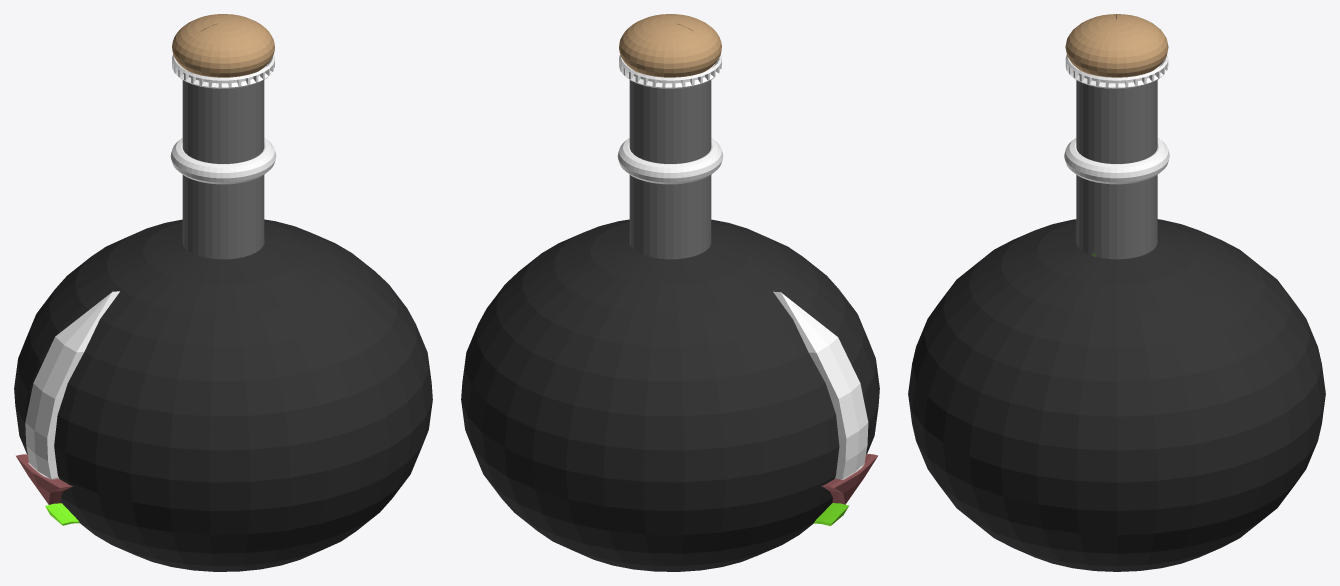
File: dmgpotion.gltf
3 views of the same model, side by side, from view 1: azimuth 30°, elevation 25°; view 2: azimuth 150°, elevation 25°; view 3: azimuth 270°, elevation 25° (orthographic).
Visible parts, largest first — view 1: Sphere; view 2: Sphere; view 3: Sphere.
Part boxes in pixels (<box>): Sphere: <box>14,14,432,571</box>; Sphere: <box>461,14,879,571</box>; Sphere: <box>908,14,1325,571</box>.
Size of the model in its own units: 1.94 by 2.57 by 1.89.
Materials: 1 (1 with a texture image).
